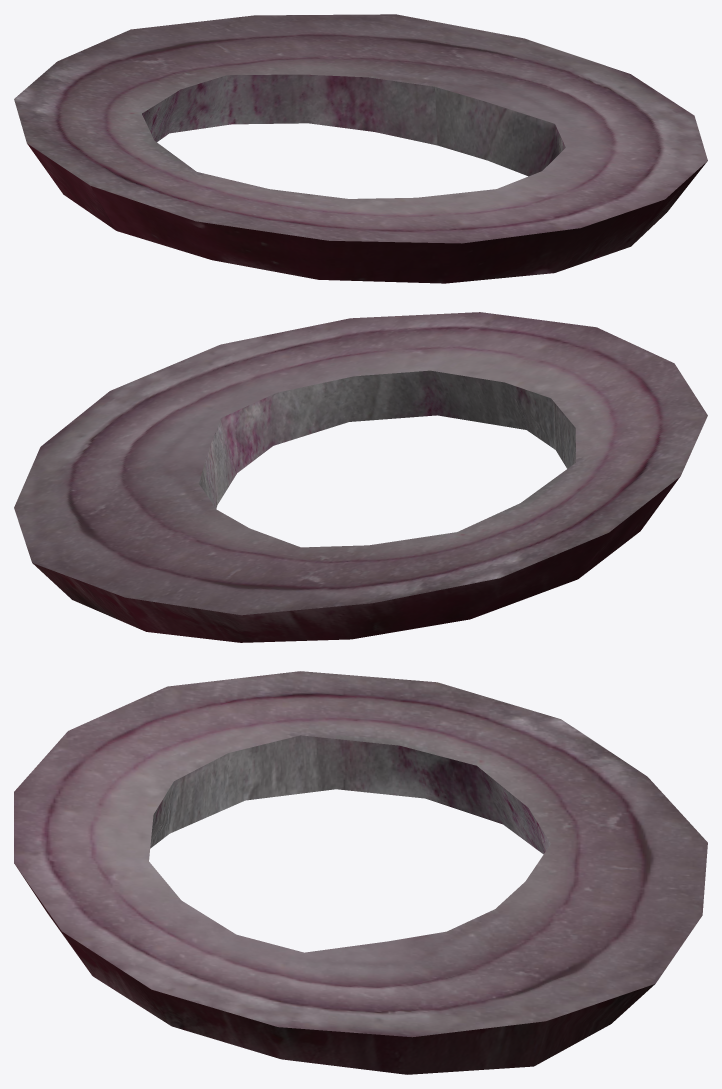
Rendered from Onion1.fbx.
3 renders of one model, top to bottom at view 1: azimuth 30°, elevation 25°; view 2: azimuth 150°, elevation 25°; view 3: azimuth 270°, elevation 25°, orthographic.
Visible parts, largest first — view 1: Onion_2; view 2: Onion_2; view 3: Onion_2.
Part boxes in pixels (x1,y1,x2,y2): Onion_2: [14, 14, 707, 283]; Onion_2: [14, 312, 707, 642]; Onion_2: [14, 671, 707, 1074].
Bounding box in the file's own units: 6.31 × 1.35 × 6.36.
